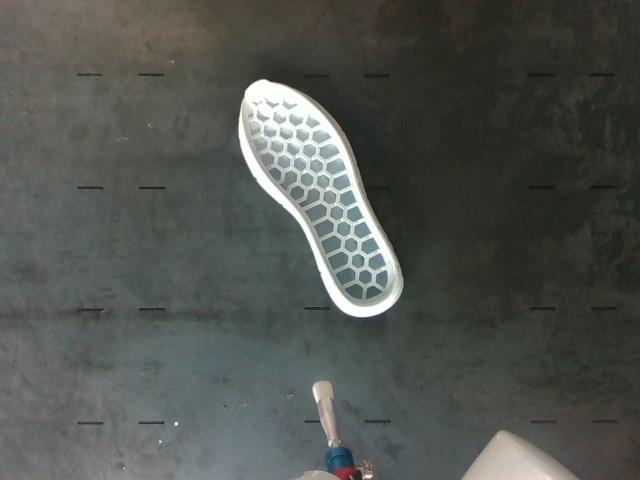shoes: (242, 80, 397, 307)
